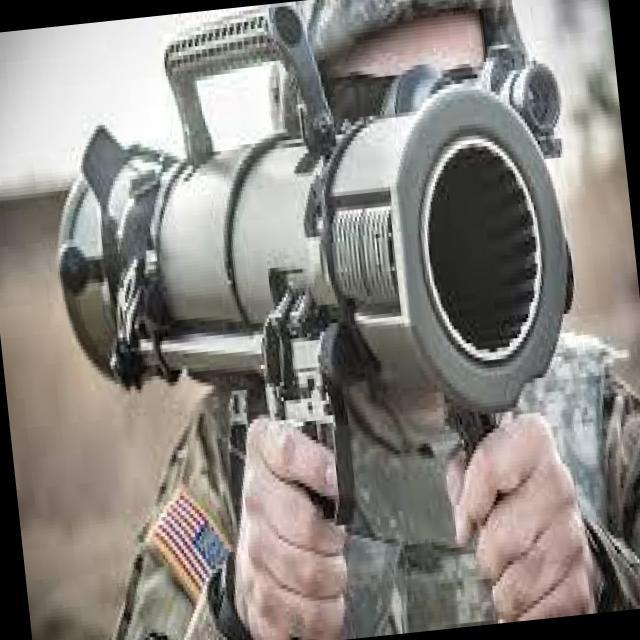rocket: (29, 0, 597, 468)
